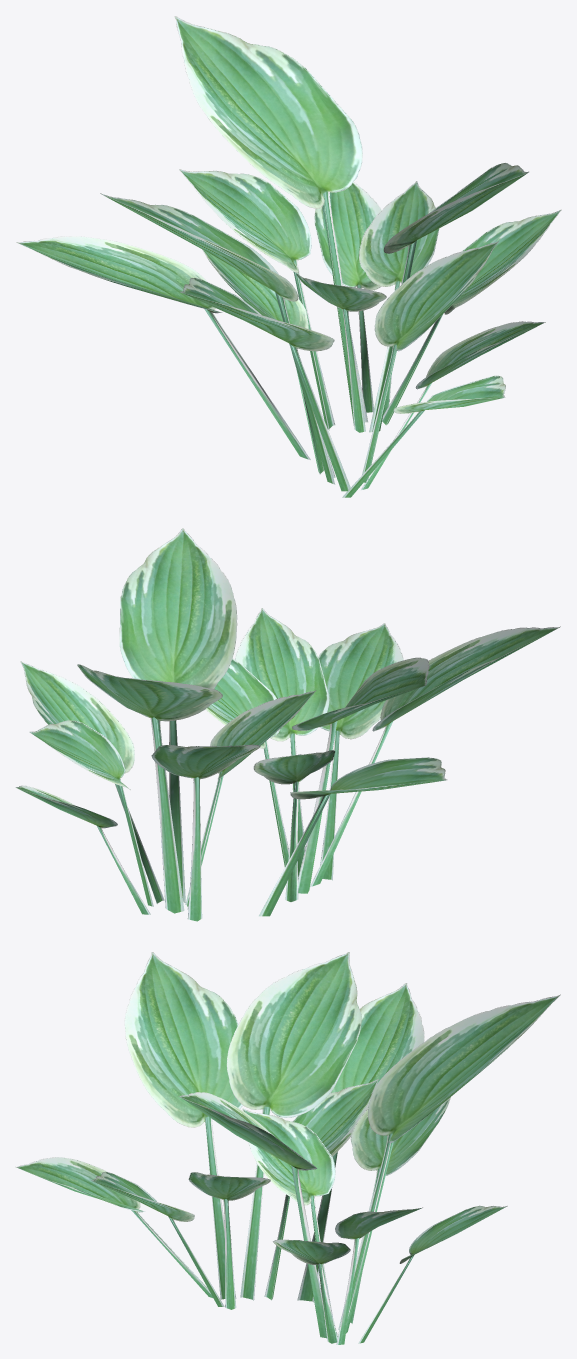
The model's file is plant_small_wg_03O.fbx.
3 renders of one model, top to bottom at view 1: azimuth 30°, elevation 25°; view 2: azimuth 150°, elevation 25°; view 3: azimuth 270°, elevation 25°, orthographic. The views are drawn at different scales.
Parts seen in each view (by area): view 1: plant_small_wg_03O; view 2: plant_small_wg_03O; view 3: plant_small_wg_03O.
Part boxes in pixels (x1=…): plant_small_wg_03O: x1=16, y1=16, x2=561, y2=497; plant_small_wg_03O: x1=15, y1=528, x2=560, y2=921; plant_small_wg_03O: x1=15, y1=952, x2=560, y2=1344.
Bounding box in the file's own units: 69.21 × 45.74 × 73.31.
